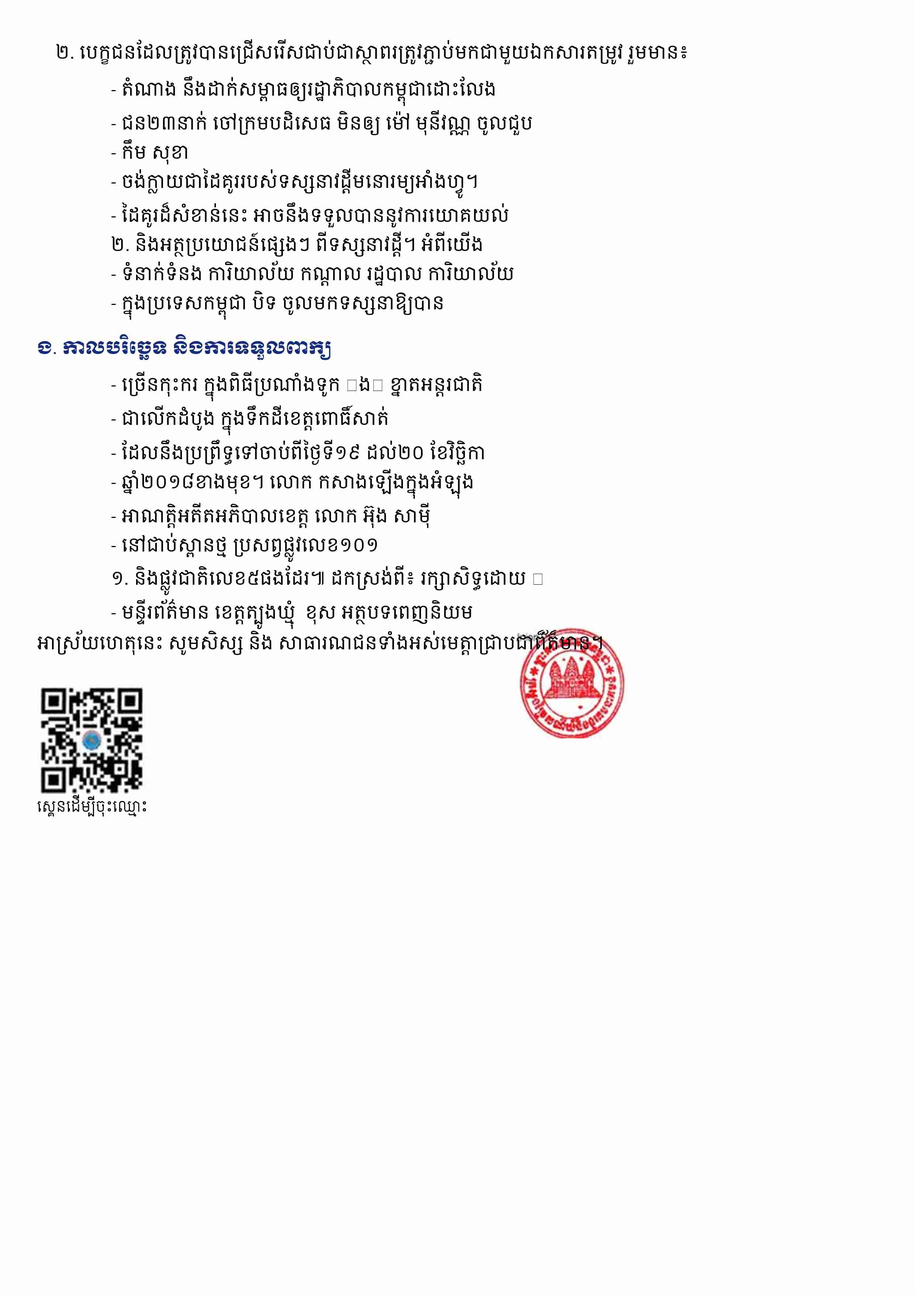decorative: (37, 683, 148, 794), (517, 628, 627, 738)
text: (55, 39, 689, 65), (37, 630, 604, 655), (111, 565, 545, 595), (111, 76, 497, 106), (111, 371, 483, 402), (111, 168, 479, 199), (111, 469, 474, 499), (111, 599, 473, 629), (111, 110, 533, 135), (111, 202, 509, 228), (111, 261, 515, 286), (111, 231, 484, 257), (111, 291, 445, 320), (111, 440, 486, 465), (111, 405, 389, 436), (111, 503, 431, 528), (111, 533, 379, 562), (37, 334, 331, 360), (37, 794, 148, 817), (111, 139, 189, 165)
